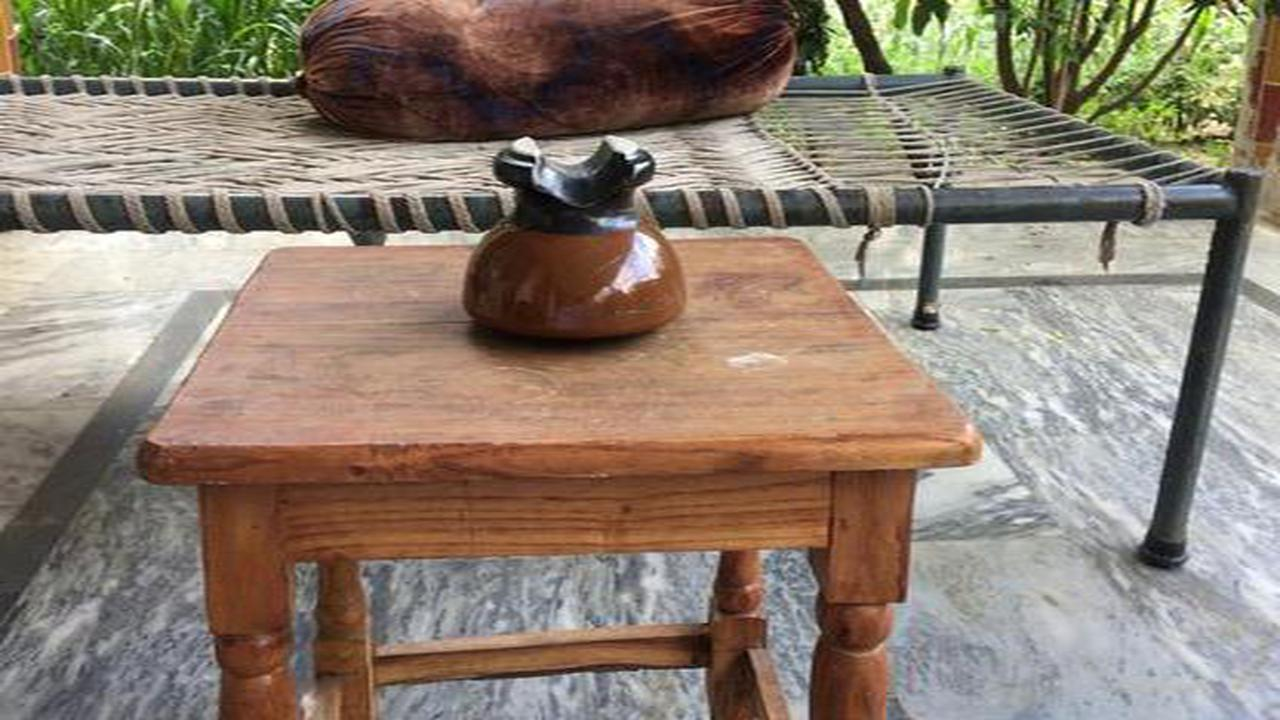insulator_pin: (413, 122, 727, 366)
